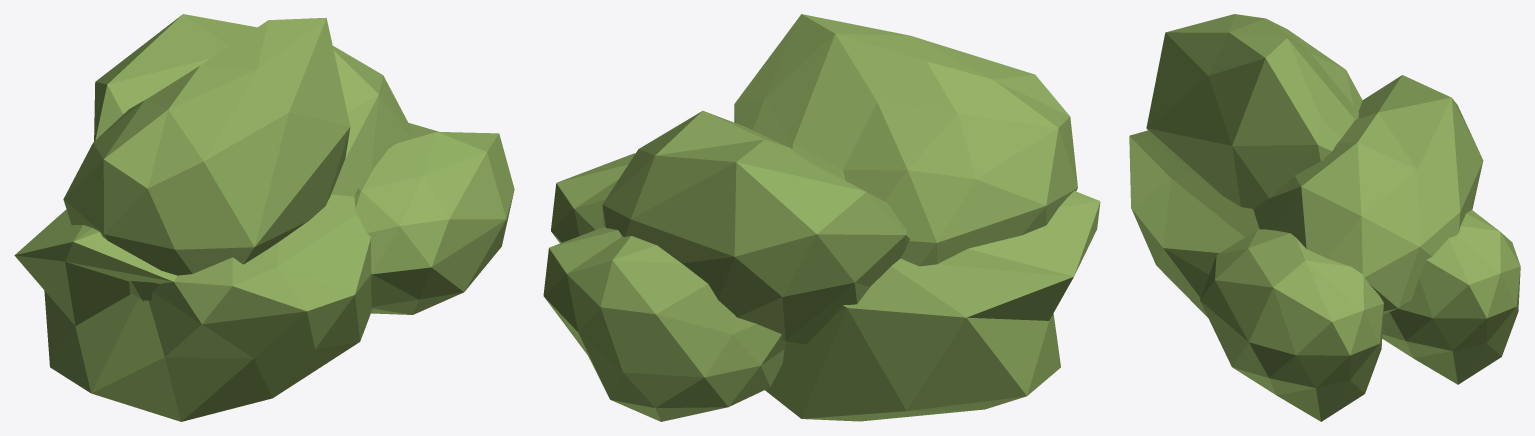
The model's file is bilun - bushes.fbx.
3 renders of one model, left to right at view 1: azimuth 30°, elevation 25°; view 2: azimuth 150°, elevation 25°; view 3: azimuth 270°, elevation 25°, orthographic. The views are drawn at different scales.
Visible parts, largest first — view 1: Icosphere.003; view 2: Icosphere.003; view 3: Icosphere.003.
Boxes of the visible parts, x1,y1,x2,y2 form: Icosphere.003: [14, 14, 514, 421]; Icosphere.003: [543, 14, 1100, 421]; Icosphere.003: [1129, 14, 1520, 421].
Bounding box in the file's own units: 232 × 157 × 176.
